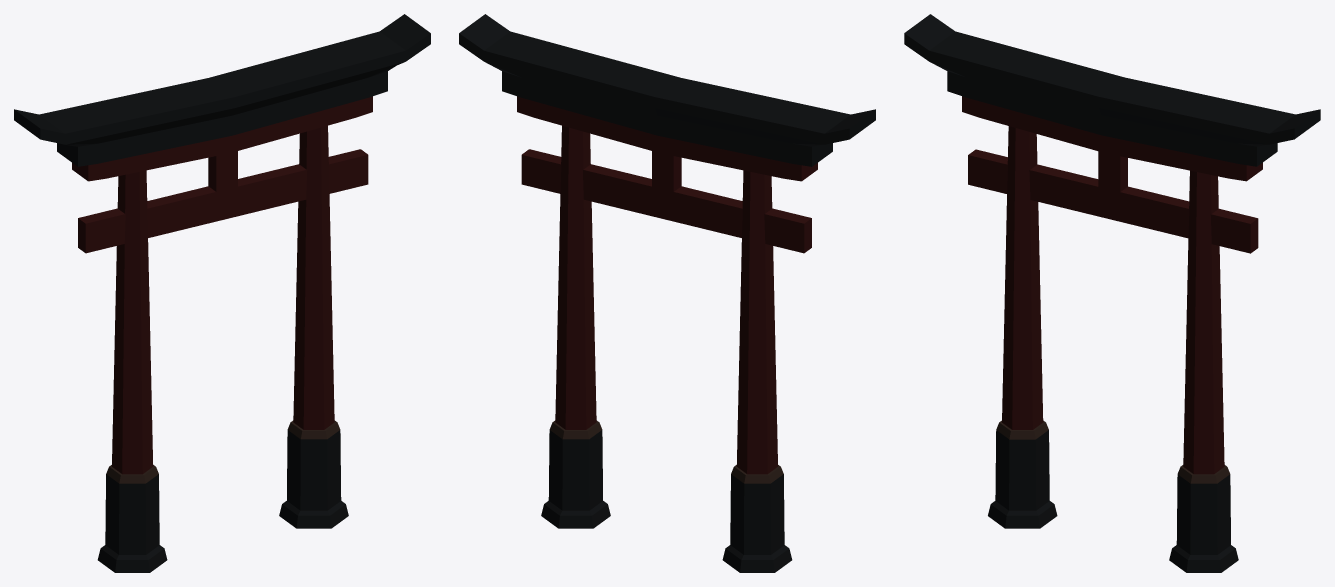
File: Small_Torii_Gate.obj
3 renders of one model, left to right at view 1: azimuth 30°, elevation 25°; view 2: azimuth 150°, elevation 25°; view 3: azimuth 330°, elevation 25°, orthographic.
Visible parts, largest first — view 1: Cylinder; view 2: Cylinder; view 3: Cylinder.
Part boxes in pixels (x1,y1,x2,y2): Cylinder: [14, 14, 430, 572]; Cylinder: [459, 14, 875, 572]; Cylinder: [904, 14, 1320, 572].
Bounding box in the file's own units: 6.9 × 7.88 × 1.07.
